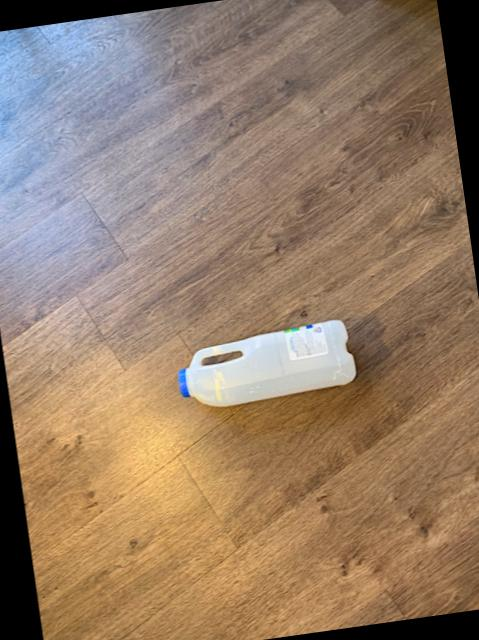plastic: (176, 318, 353, 404)
